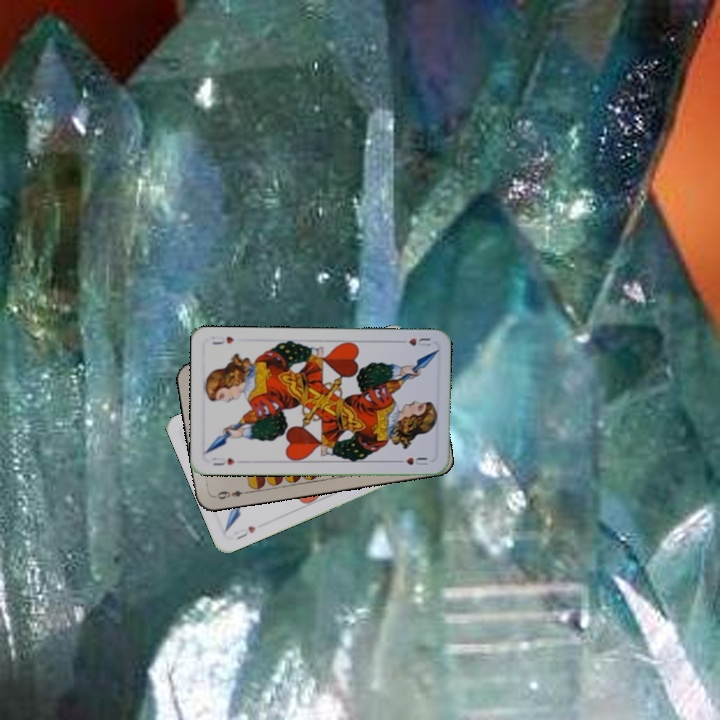E9: (210, 486, 251, 502)
HU: (394, 334, 434, 349), (230, 522, 259, 542), (209, 453, 237, 468)
